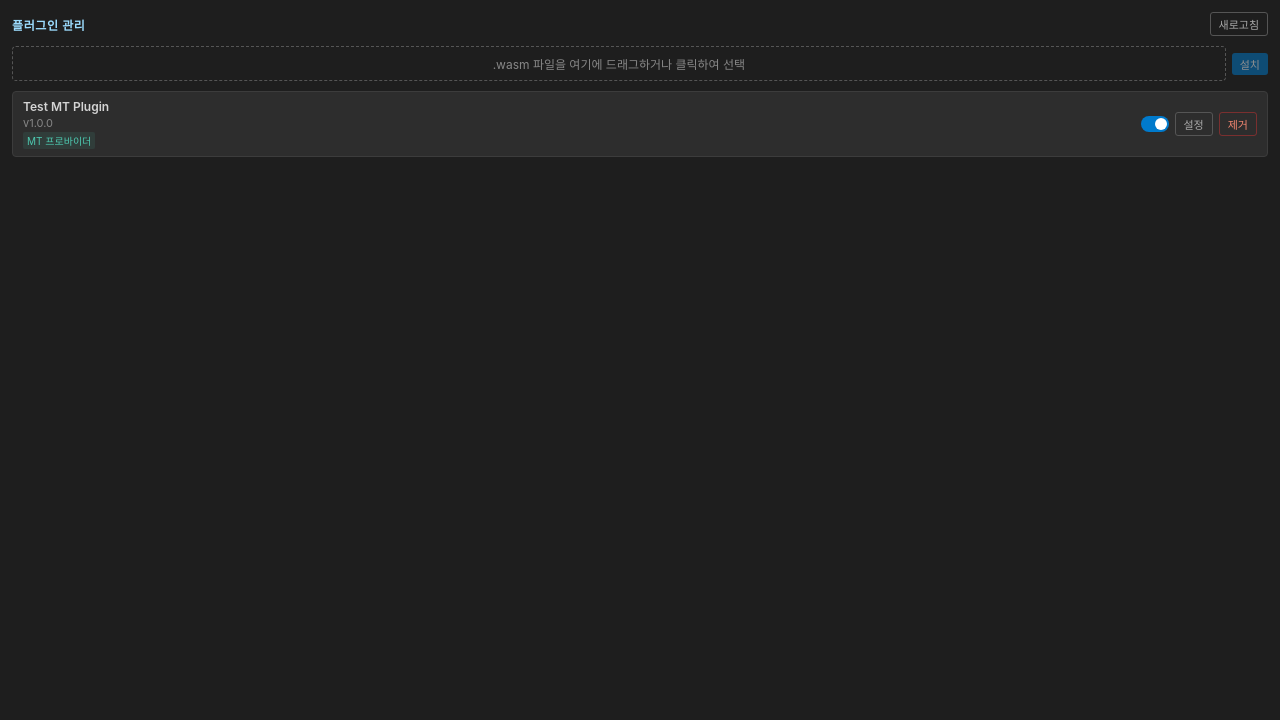
Test case: PluginManager › closes config modal on 취소
Click the button "설정".
click(1194, 124)  # box [1174,112,1213,136]
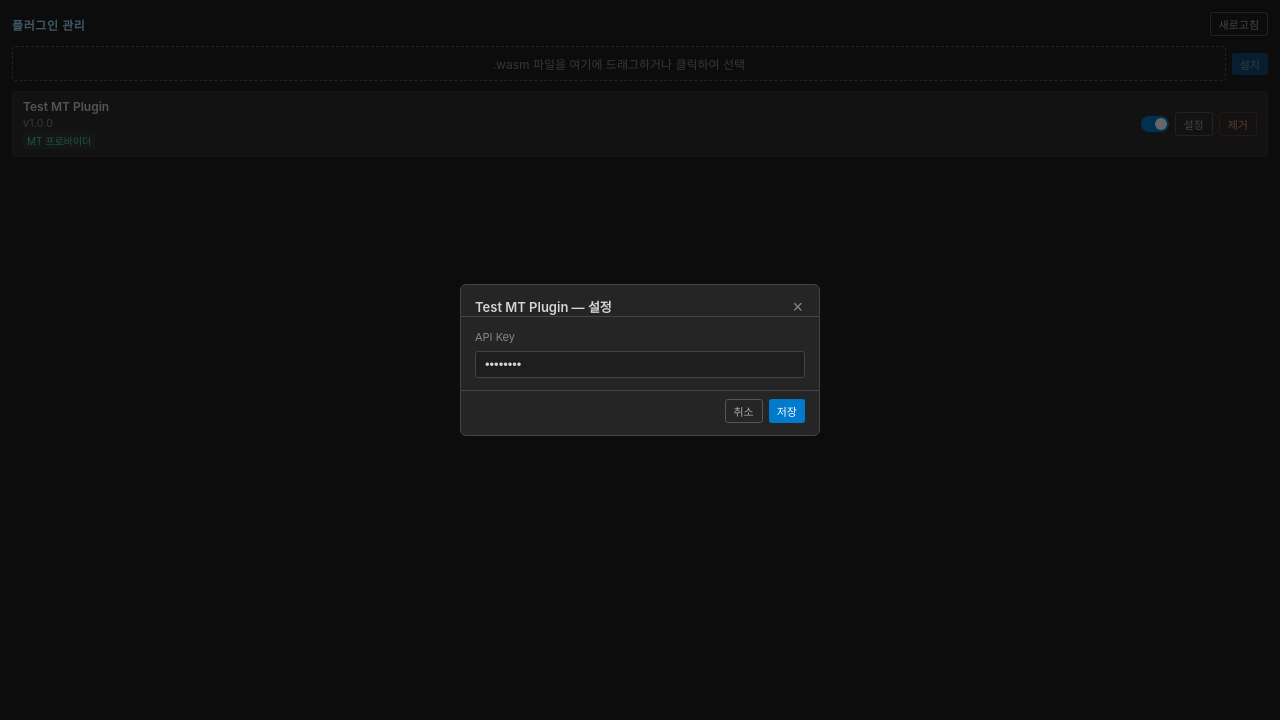
Click the button "취소".
click(744, 411)  # box [724,399,763,423]
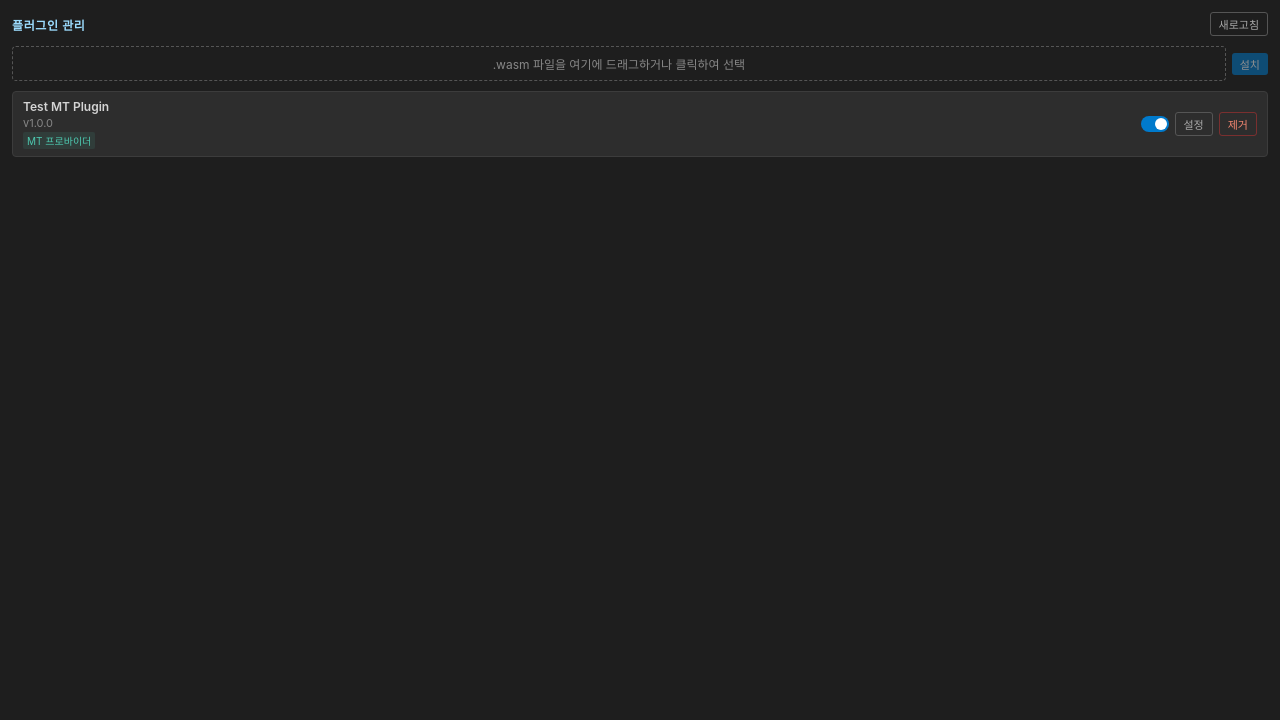
Now the dialog is gone
